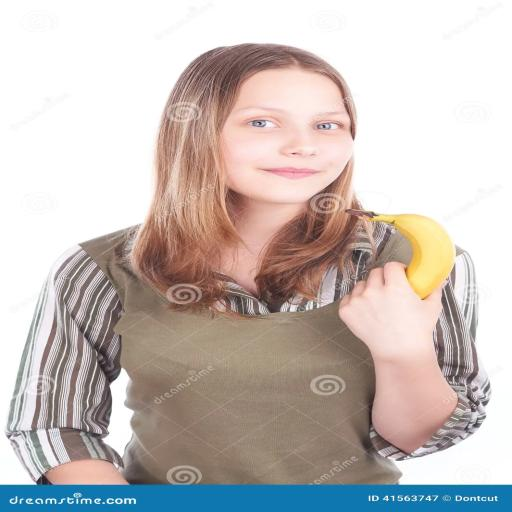banana: (346, 210, 455, 299)
